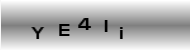4: (77, 17, 92, 31)
E: (57, 23, 72, 37)
Y: (30, 25, 47, 40)
i: (118, 26, 125, 41)
l: (103, 18, 109, 34)
